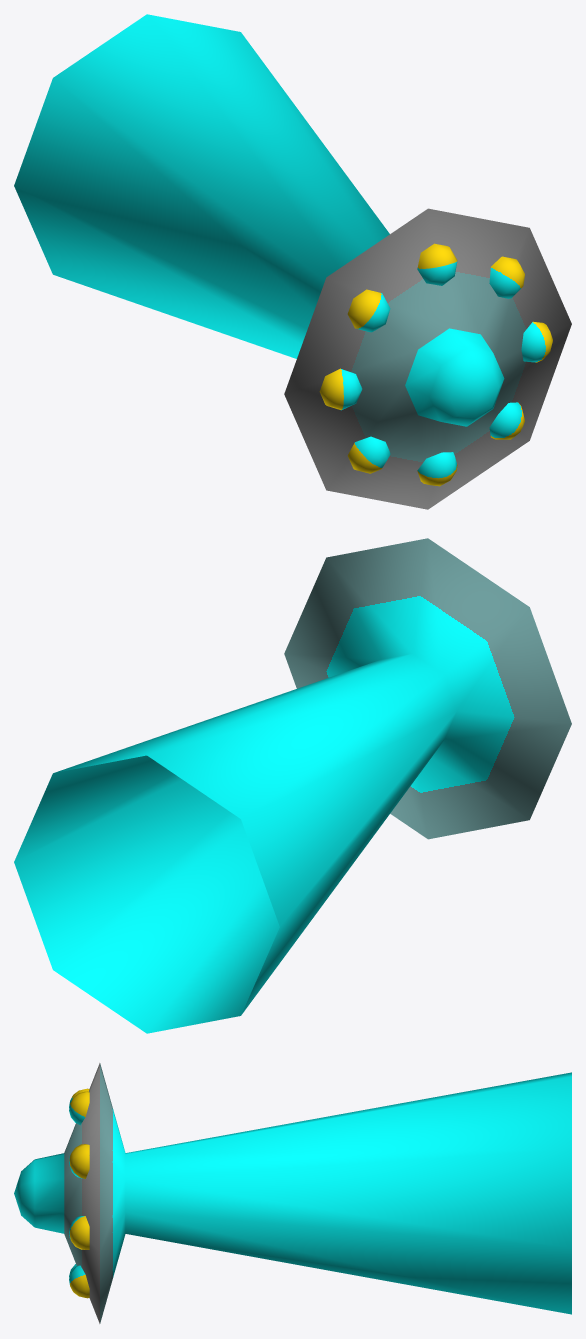
File: ufo.glb
3 renders of one model, top to bottom at view 1: azimuth 30°, elevation 25°; view 2: azimuth 150°, elevation 25°; view 3: azimuth 270°, elevation 25°, orthographic. The views are drawn at different scales.
Visible parts, largest first — view 1: ufo-model; view 2: ufo-model; view 3: ufo-model.
Part boxes in pixels (x1,y1,x2,y2): ufo-model: [14, 14, 571, 509]; ufo-model: [14, 538, 571, 1033]; ufo-model: [14, 1063, 571, 1323].
Size of the model in its own units: 0.75 by 0.75 by 1.5.
Materials: 2 (2 with a texture image).
